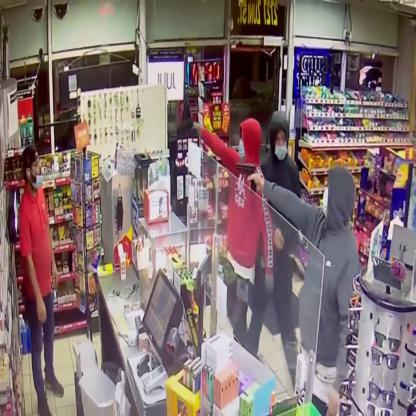Pistol: (236, 158, 258, 196), (177, 112, 196, 150)
